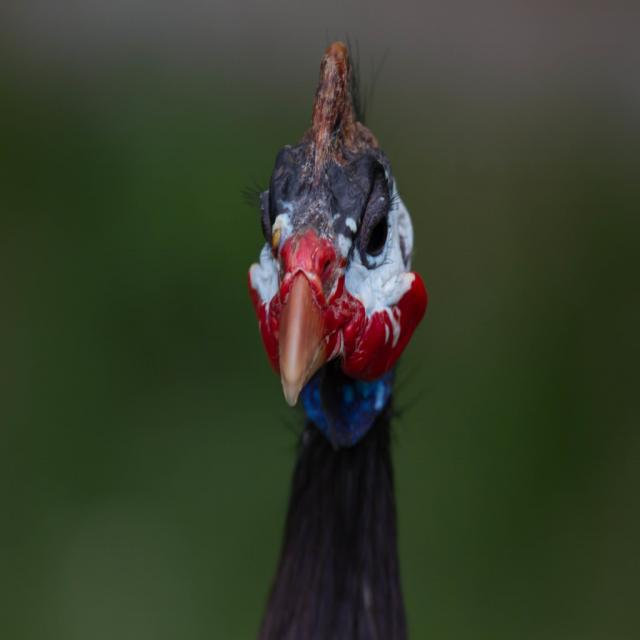Chicken: (226, 48, 439, 590)
